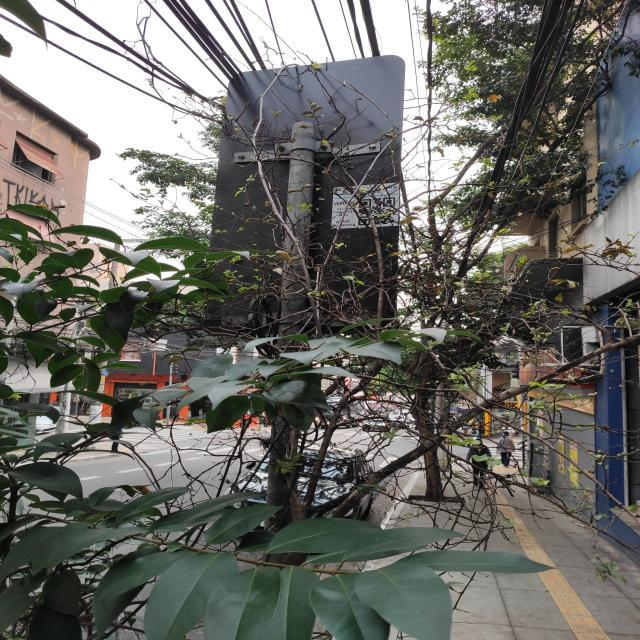qr-code: (358, 197, 396, 226)
